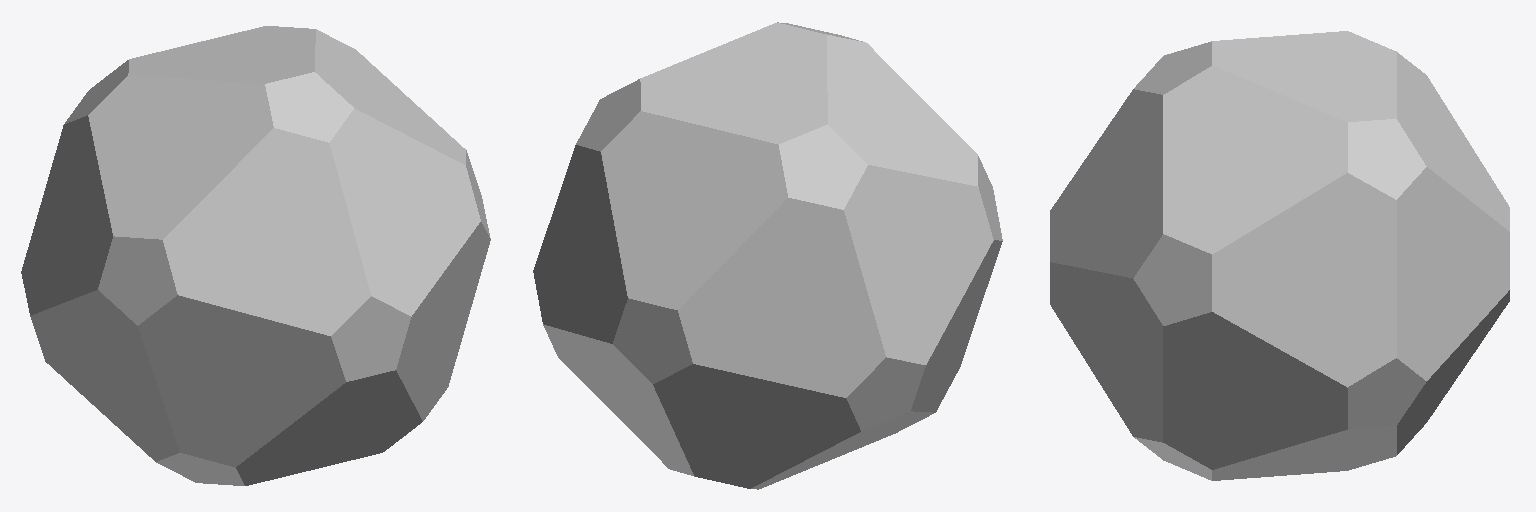
File: Buckyball.obj
The picture shows the model from 3 angles: view 1: azimuth 30°, elevation 25°; view 2: azimuth 150°, elevation 25°; view 3: azimuth 270°, elevation 25°; orthographic projection.
Visible parts, largest first — view 1: Icosphere; view 2: Icosphere; view 3: Icosphere.
Boxes of the visible parts, <box> form: Icosphere: <box>21,26,490,485</box>; Icosphere: <box>533,22,1002,489</box>; Icosphere: <box>1050,31,1509,480</box>.
Size of the model in its own units: 1.7 by 1.72 by 1.77.